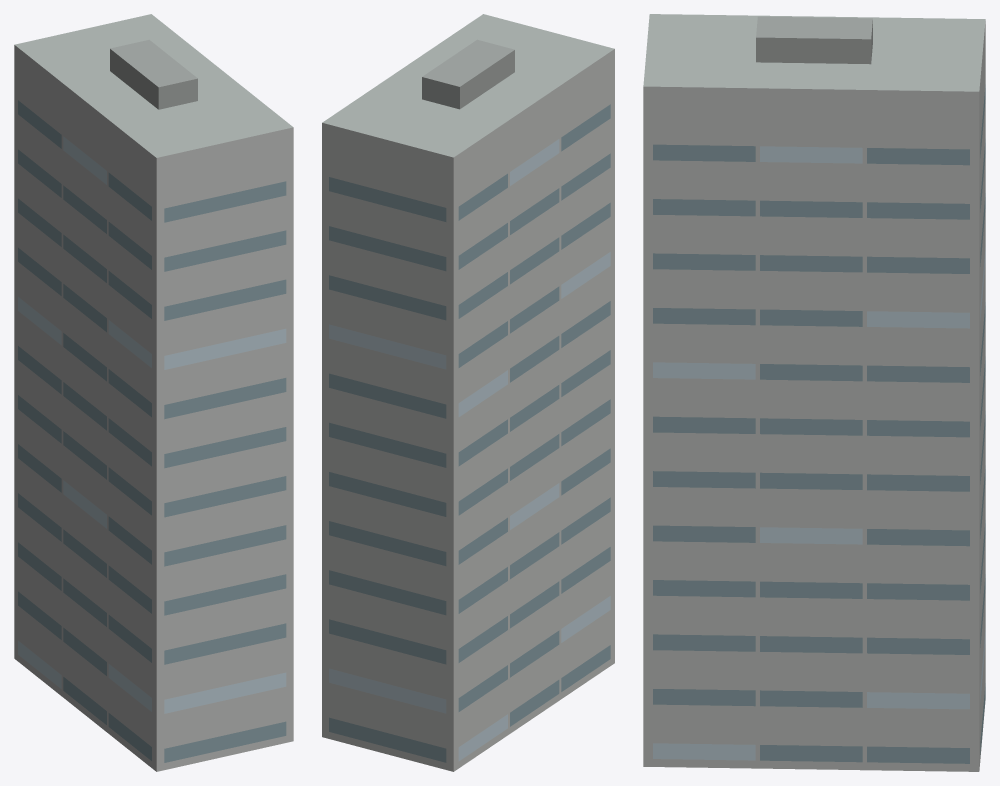
The model's file is fallback-sk-bukhansan-city-114.glb.
3 views of the same model, side by side, from view 1: azimuth 30°, elevation 25°; view 2: azimuth 150°, elevation 25°; view 3: azimuth 270°, elevation 25° (orthographic). The views are drawn at different scales.
Visible parts, largest first — view 1: fallback-sk-bukhansan-city-114; view 2: fallback-sk-bukhansan-city-114; view 3: fallback-sk-bukhansan-city-114.
Boxes of the visible parts, x1=… form: fallback-sk-bukhansan-city-114: x1=14, y1=14, x2=293, y2=771; fallback-sk-bukhansan-city-114: x1=322, y1=14, x2=614, y2=771; fallback-sk-bukhansan-city-114: x1=643, y1=14, x2=985, y2=771.
Bounding box in the file's own units: 16.1 × 68 × 29.94.
